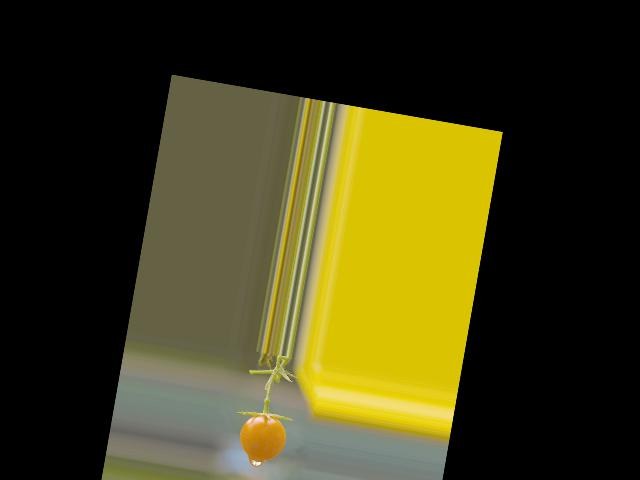tomato: (235, 411, 288, 463)
